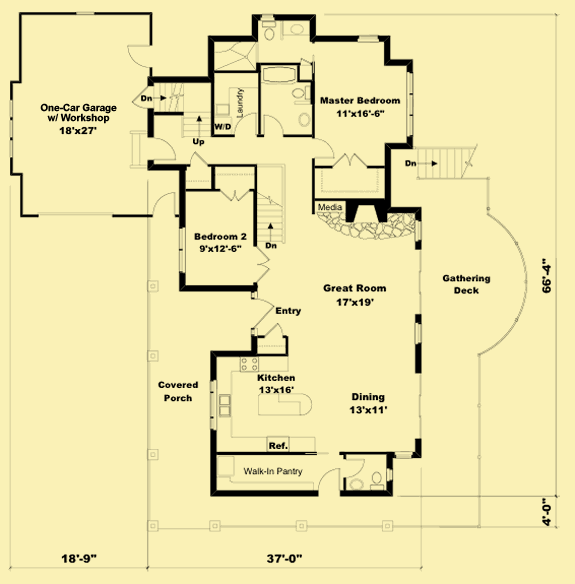door: (249, 295, 276, 331), (251, 244, 273, 285), (146, 135, 178, 163), (232, 111, 262, 139), (317, 465, 343, 495), (125, 43, 152, 70), (260, 114, 288, 140), (153, 190, 178, 219), (311, 136, 337, 162)
kitchen_bar: (258, 389, 318, 421)
large_sink: (368, 469, 389, 494), (260, 19, 281, 43), (291, 82, 313, 103)
stairs: (252, 165, 291, 248), (410, 145, 480, 184), (147, 77, 186, 113)
tub: (260, 63, 299, 88)
twin_sink: (217, 393, 234, 420)
window: (402, 70, 415, 138), (5, 99, 18, 161), (208, 373, 219, 434), (178, 226, 186, 272)
